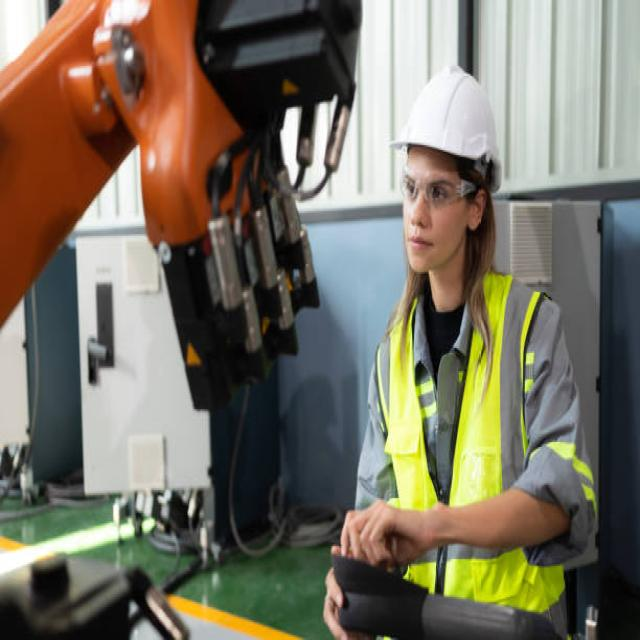Robotic-arm: (0, 0, 362, 404)
